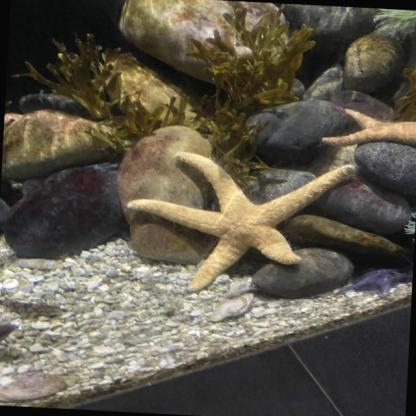starfish: (122, 148, 356, 300), (320, 107, 416, 153)
